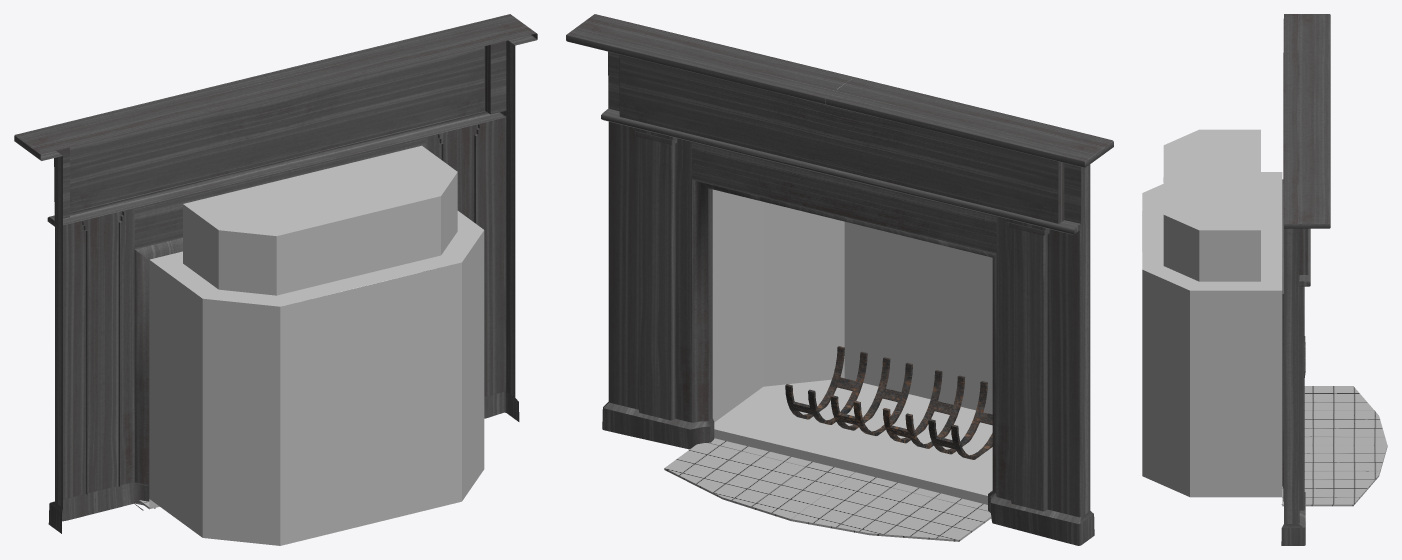
The model's file is SM_FirePlace.fbx.
3 renders of one model, left to right at view 1: azimuth 30°, elevation 25°; view 2: azimuth 150°, elevation 25°; view 3: azimuth 270°, elevation 25°, orthographic. The views are drawn at different scales.
Parts seen in each view (by area): view 1: FoyerBack, Foyer; view 2: Foyer, FoyerBack, Grill; view 3: FoyerBack, Foyer.
Part boxes in pixels (bbox=[...]): FoyerBack: bbox=[139, 145, 484, 545]; Foyer: bbox=[14, 14, 537, 533]; Foyer: bbox=[566, 14, 1113, 545]; FoyerBack: bbox=[664, 84, 992, 541]; Grill: bbox=[785, 346, 992, 459]; FoyerBack: bbox=[1142, 129, 1387, 506]; Foyer: bbox=[1281, 14, 1330, 545].
Size of the model in its own units: 168 by 124 by 83.07.
